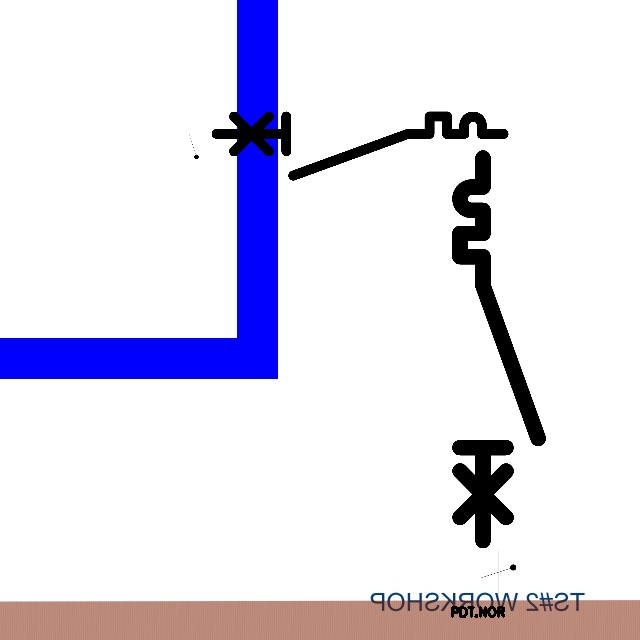interruptor_termomagnetico: (450, 148, 548, 550), (209, 109, 511, 183)
